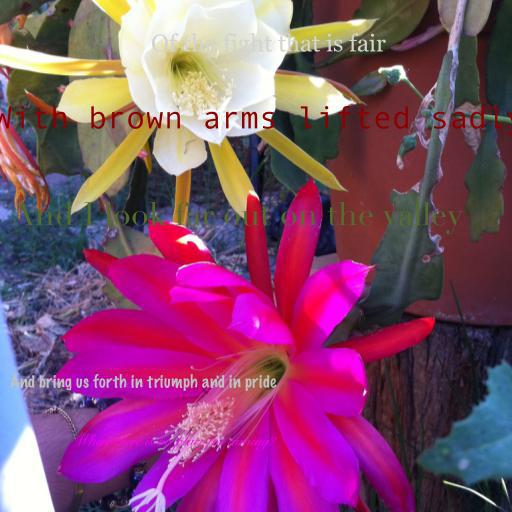Andale Mono: (0, 105, 512, 135)
Didot: (10, 201, 462, 235)
Georgia: (150, 33, 386, 57)
Marker Felt: (10, 374, 276, 391)
Snell Roundhand: (74, 434, 276, 451)
